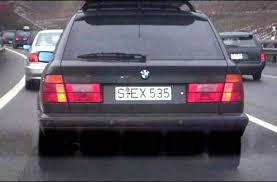3: (157, 88, 163, 98)
5: (149, 88, 156, 98), (164, 88, 170, 98)
E: (131, 87, 139, 98)
S: (117, 88, 125, 99)
X: (139, 87, 147, 98)
